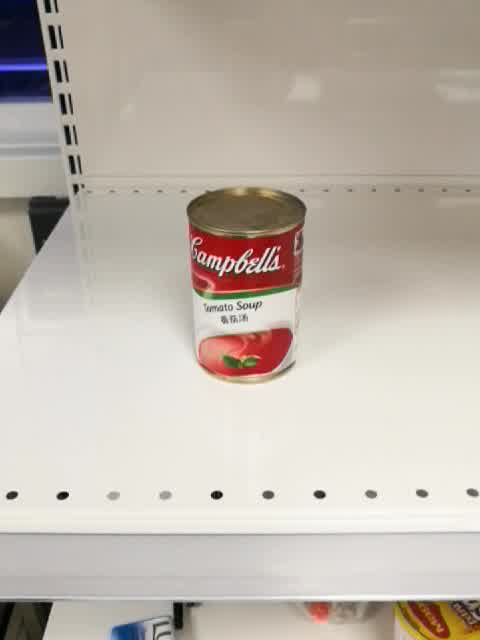tomatosoup: (185, 185, 307, 386)
